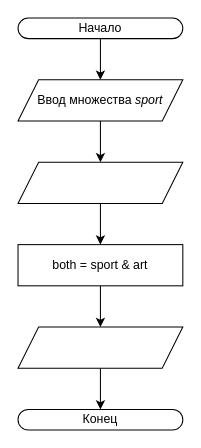
Image size: 201x448. Some labels were removed from this diagram. The shapes that lost their labels are listed below. From the top down, each one's centre as x and y in pixels, then its label:
At point 100,182: "Ввод множества art".
At point 100,347: "Вывод множества".
